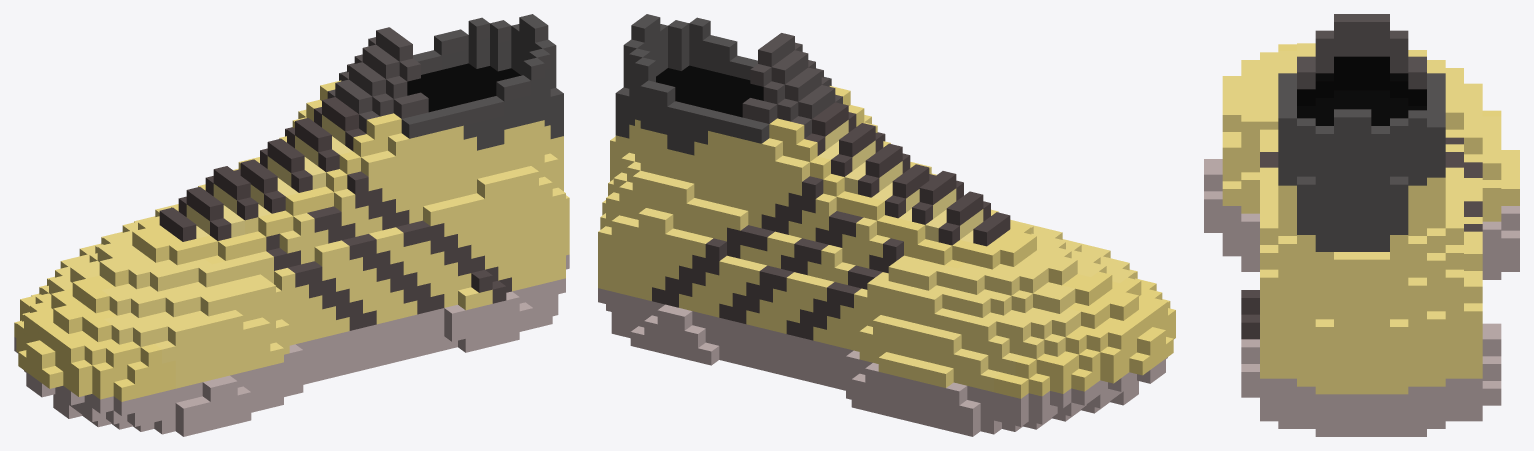
The model's file is Shell.fbx.
3 views of the same model, side by side, from view 1: azimuth 30°, elevation 25°; view 2: azimuth 150°, elevation 25°; view 3: azimuth 270°, elevation 25° (orthographic). The views are drawn at different scales.
Parts seen in each view (by area): view 1: Untitled; view 2: Untitled; view 3: Untitled.
Boxes of the visible parts, <box> form: Untitled: <box>14,14,569,436</box>; Untitled: <box>598,14,1175,436</box>; Untitled: <box>1204,14,1519,436</box>.
Size of the model in its own units: 390 by 200 by 170.
